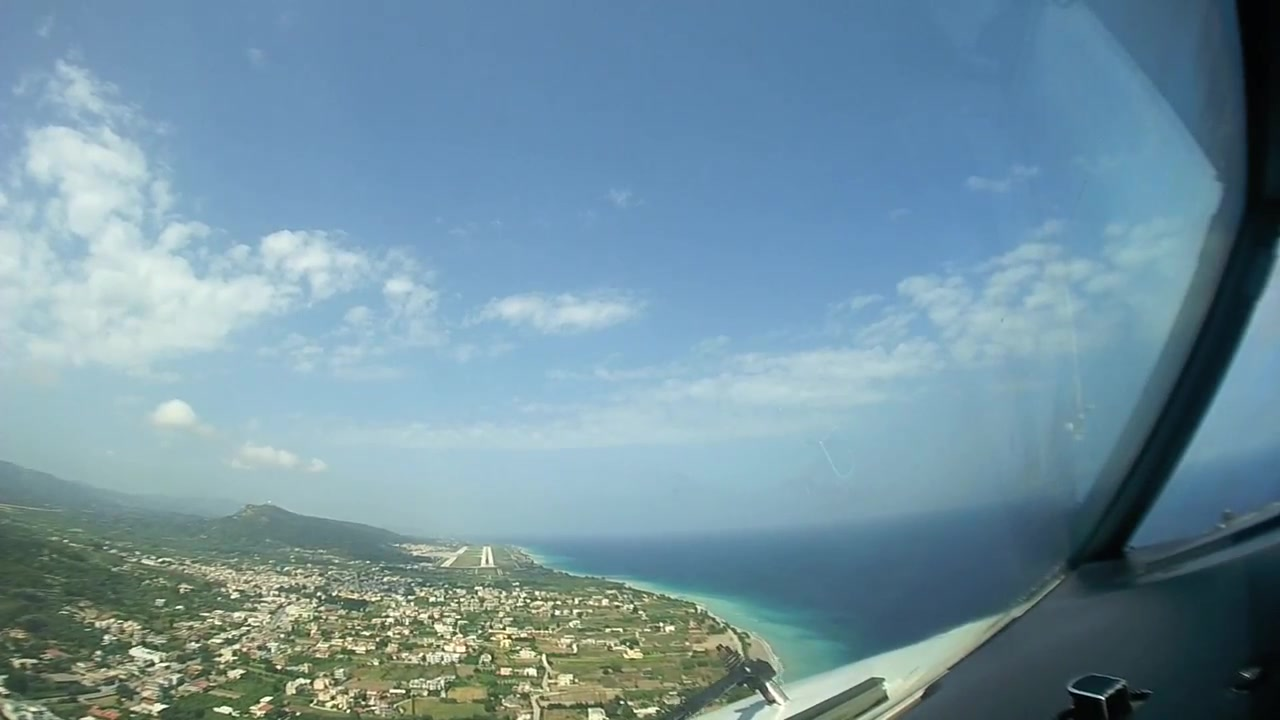runway: (478, 546, 496, 569)
